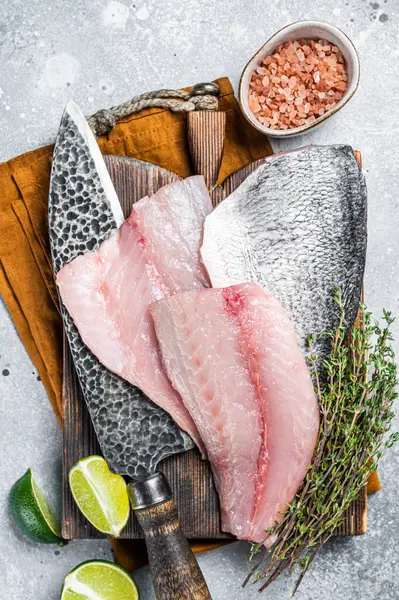bream-fish: (141, 284, 317, 546), (57, 176, 216, 428)
